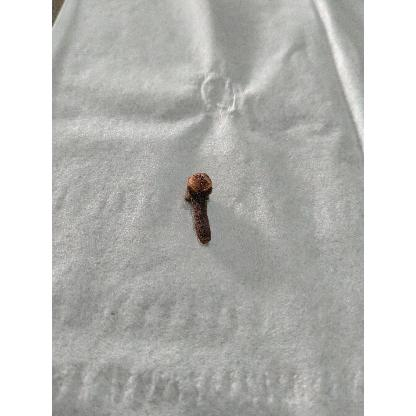baik: (185, 173, 213, 246)
